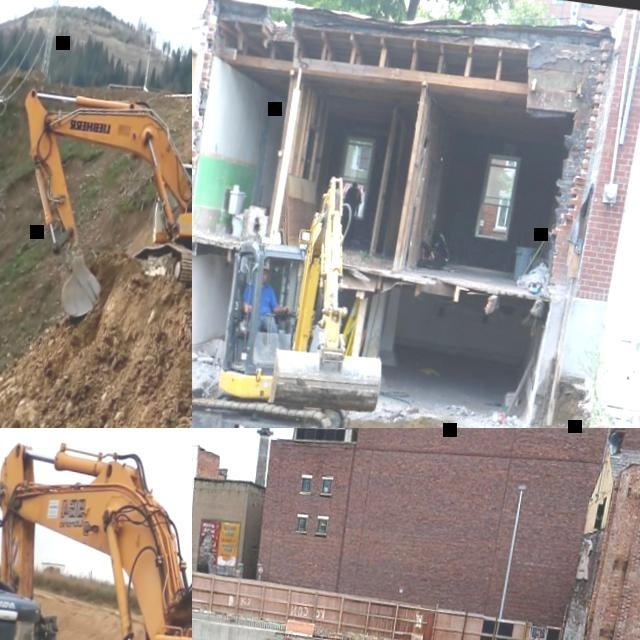NO-Hardhat: (260, 260, 272, 272)
NO-Mask: (261, 278, 266, 286)
NO-Safety Vest: (246, 282, 274, 315)
Person: (237, 259, 298, 355), (340, 181, 365, 234)
machinery: (192, 157, 408, 428), (0, 79, 192, 344), (0, 428, 192, 640)
